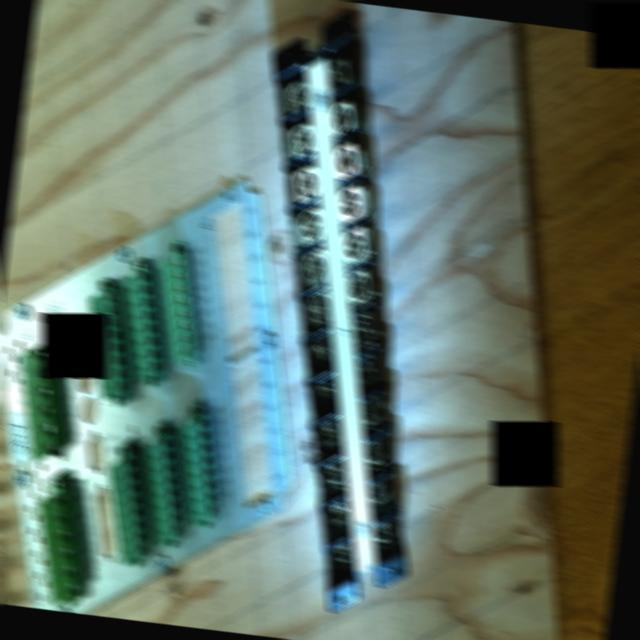Phillips_Block: (268, 8, 417, 611)
Terminal_1: (36, 486, 83, 606), (18, 343, 62, 463)
Terminal_2: (120, 267, 167, 382), (87, 286, 133, 401), (106, 451, 152, 566), (142, 432, 185, 547), (178, 412, 220, 526)
